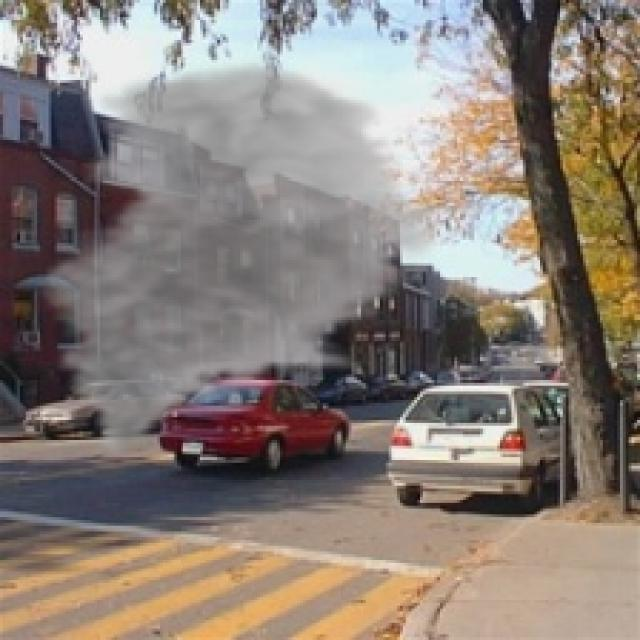Smoke: (29, 57, 452, 460)
